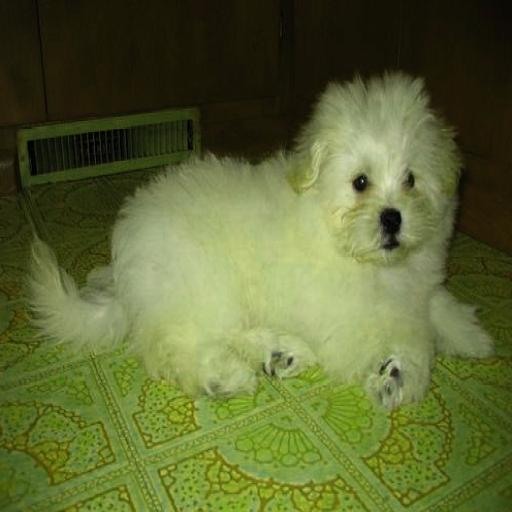dog_face: (301, 78, 471, 270)
